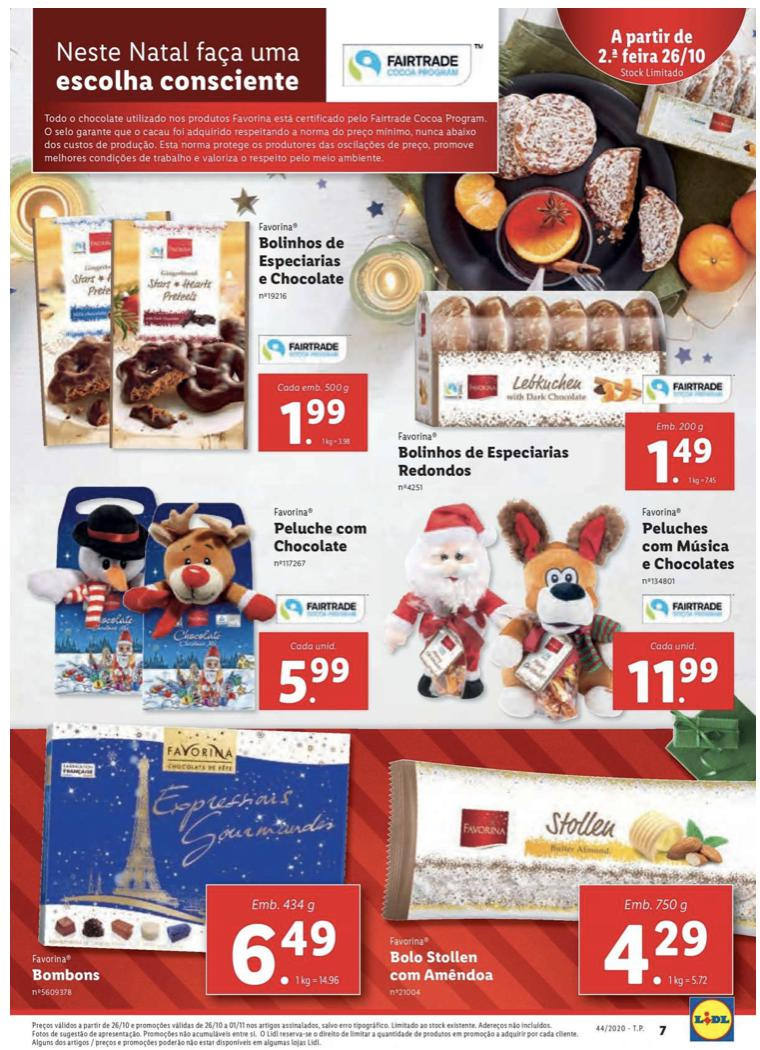name: (394, 439, 576, 479), (256, 229, 346, 292), (637, 522, 737, 574), (265, 514, 372, 552), (389, 948, 498, 983), (30, 965, 107, 983)
price: (602, 914, 713, 989), (229, 913, 338, 986), (622, 652, 720, 707), (277, 652, 354, 703), (276, 395, 350, 446), (644, 437, 716, 483)
product: (377, 727, 751, 1008), (30, 712, 374, 1001), (21, 189, 377, 465), (21, 478, 378, 714), (391, 491, 734, 726), (391, 289, 746, 491)
